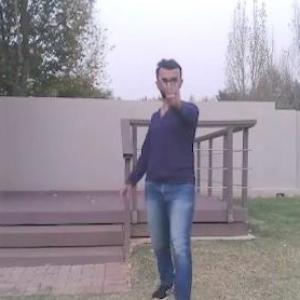takeoff-hand: (154, 72, 189, 114)
